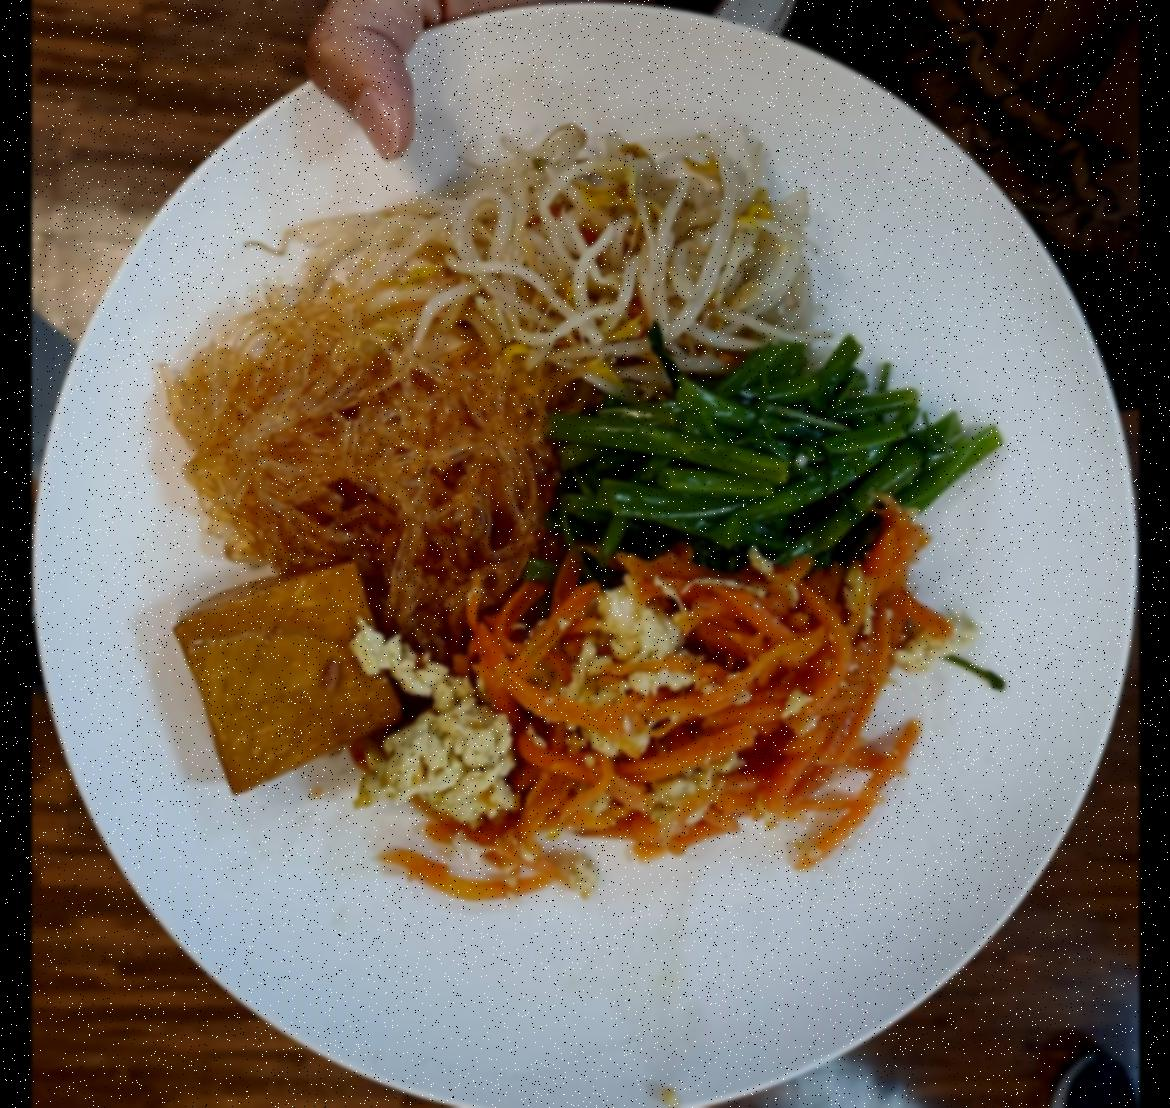plate: (35, 0, 1131, 1108)
side dish: (402, 556, 945, 868), (178, 281, 582, 649), (350, 143, 834, 378), (577, 349, 961, 584), (161, 553, 419, 803)
